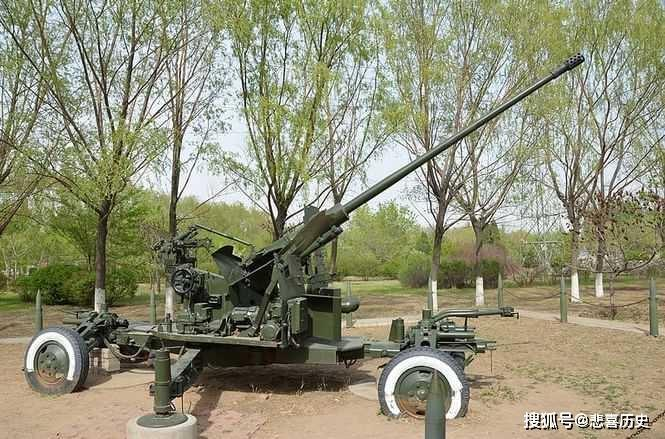MIL_SPG: (25, 55, 584, 418)
